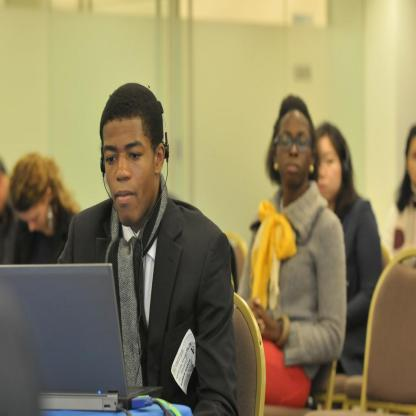board: (9, 254, 152, 415)
